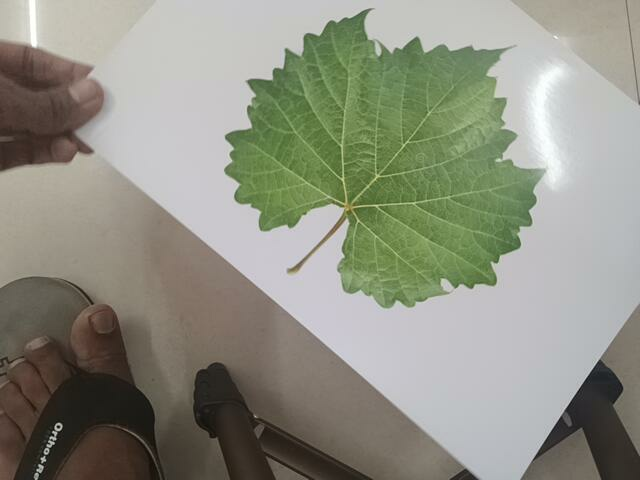Grape_Healthy: (222, 2, 550, 307)
